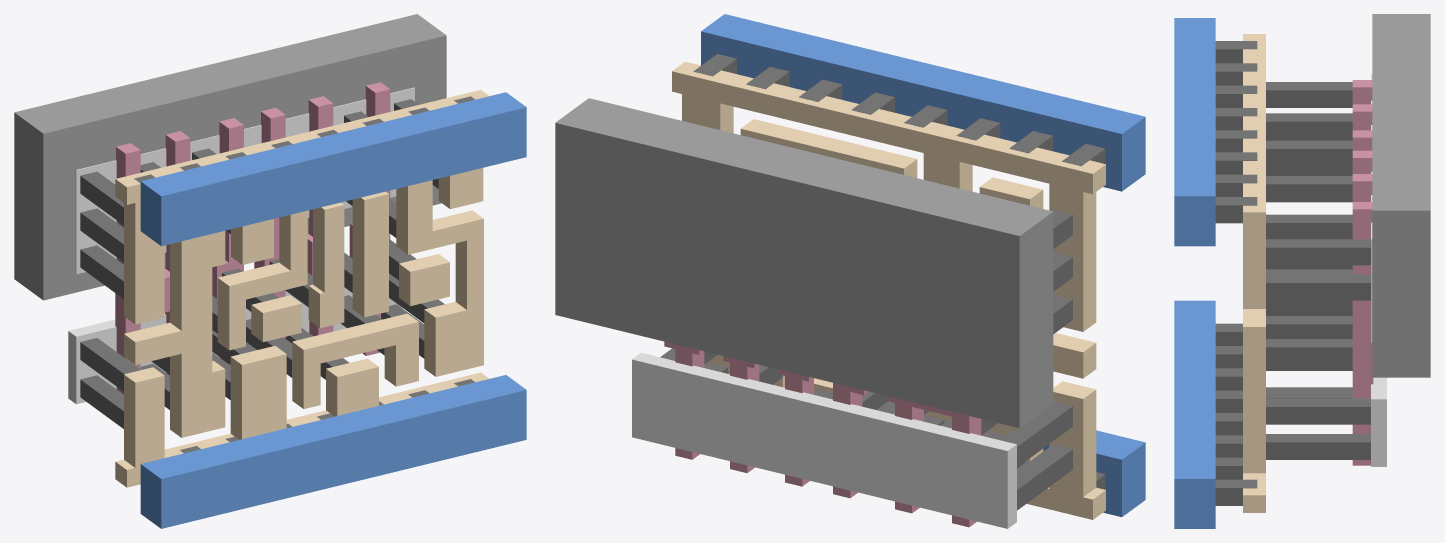
File: sky130_fd_sc_hd__o31a_2.gds.gltf
3 views of the same model, side by side, from view 1: azimuth 30°, elevation 25°; view 2: azimuth 150°, elevation 25°; view 3: azimuth 270°, elevation 25° (orthographic). The views are drawn at different scales.
Parts seen in each view (by area): view 1: sky130_fd_sc_hd__o31a_2_li1, sky130_fd_sc_hd__o31a_2_met1, sky130_fd_sc_hd__o31a_2_nwell, sky130_fd_sc_hd__o31a_2_licon, sky130_fd_sc_hd__o31a_2_poly, sky130_fd_sc_hd__o31a_2_diff, sky130_fd_sc_hd__o31a_2_mcon; view 2: sky130_fd_sc_hd__o31a_2_nwell, sky130_fd_sc_hd__o31a_2_diff, sky130_fd_sc_hd__o31a_2_li1, sky130_fd_sc_hd__o31a_2_met1, sky130_fd_sc_hd__o31a_2_licon, sky130_fd_sc_hd__o31a_2_mcon, sky130_fd_sc_hd__o31a_2_poly; view 3: sky130_fd_sc_hd__o31a_2_licon, sky130_fd_sc_hd__o31a_2_nwell, sky130_fd_sc_hd__o31a_2_met1, sky130_fd_sc_hd__o31a_2_mcon, sky130_fd_sc_hd__o31a_2_li1, sky130_fd_sc_hd__o31a_2_poly, sky130_fd_sc_hd__o31a_2_diff.
Part boxes in pixels (<box>): sky130_fd_sc_hd__o31a_2_li1: <box>115,90,489,487</box>; sky130_fd_sc_hd__o31a_2_met1: <box>140,92,526,528</box>; sky130_fd_sc_hd__o31a_2_nwell: <box>14,14,446,300</box>; sky130_fd_sc_hd__o31a_2_licon: <box>80,99,444,428</box>; sky130_fd_sc_hd__o31a_2_poly: <box>115,82,390,394</box>; sky130_fd_sc_hd__o31a_2_diff: <box>68,87,414,404</box>; sky130_fd_sc_hd__o31a_2_mcon: <box>134,96,474,453</box>; sky130_fd_sc_hd__o31a_2_nwell: <box>555,98,1053,428</box>; sky130_fd_sc_hd__o31a_2_diff: <box>632,352,1016,528</box>; sky130_fd_sc_hd__o31a_2_li1: <box>672,61,1105,519</box>; sky130_fd_sc_hd__o31a_2_met1: <box>701,14,1145,517</box>; sky130_fd_sc_hd__o31a_2_licon: <box>660,209,1072,510</box>; sky130_fd_sc_hd__o31a_2_mcon: <box>693,54,1105,489</box>; sky130_fd_sc_hd__o31a_2_poly: <box>664,341,981,527</box>; sky130_fd_sc_hd__o31a_2_licon: <box>1266,82,1370,459</box>; sky130_fd_sc_hd__o31a_2_nwell: <box>1372,14,1430,377</box>; sky130_fd_sc_hd__o31a_2_met1: <box>1174,18,1215,528</box>; sky130_fd_sc_hd__o31a_2_mcon: <box>1215,41,1257,505</box>; sky130_fd_sc_hd__o31a_2_li1: <box>1243,34,1265,512</box>; sky130_fd_sc_hd__o31a_2_poly: <box>1352,80,1373,465</box>; sky130_fd_sc_hd__o31a_2_diff: <box>1371,74,1386,466</box>.
Bounding box in the file's own units: 4.06 × 3.2 × 2.24.
